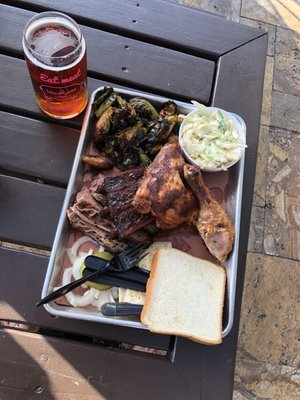pizza: (22, 11, 89, 119)
soup: (140, 247, 226, 346)
